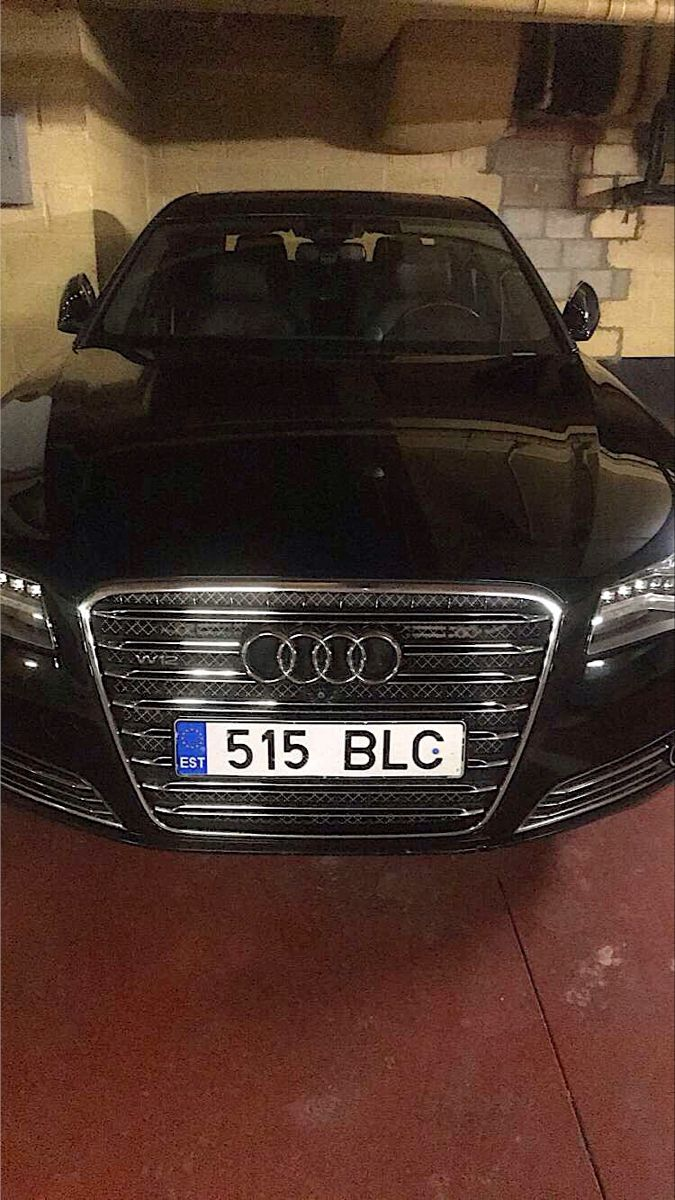plate: (180, 727, 465, 773)
